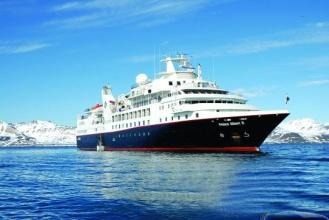youlun: (69, 51, 286, 151)
